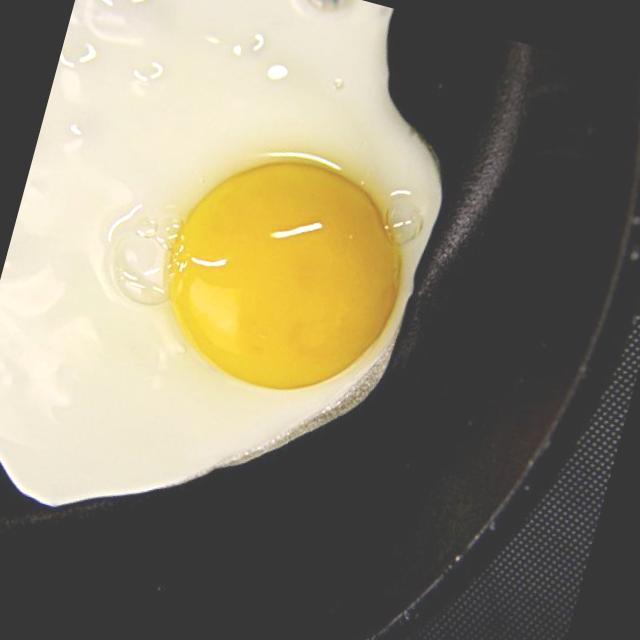Egg: (0, 0, 503, 600)
